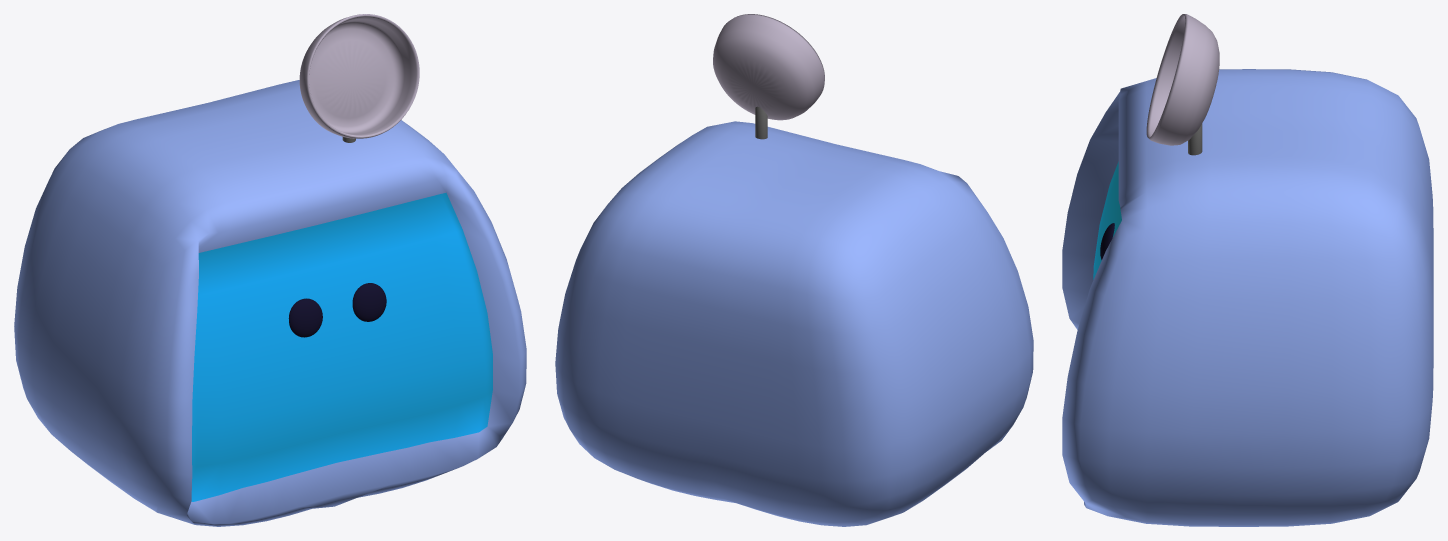
The model's file is HEAD 2 Animasi revisi modelling.fbx.
3 views of the same model, side by side, from view 1: azimuth 30°, elevation 25°; view 2: azimuth 150°, elevation 25°; view 3: azimuth 270°, elevation 25° (orthographic). The views are drawn at different scales.
Visible parts, largest first — view 1: Cube, Cylinder, Sphere.001; view 2: Cube, Cylinder; view 3: Cube, Cylinder.
Boxes of the visible parts, x1,y1,x2,y2 form: Cube: (14, 80, 526, 526); Cylinder: (299, 14, 419, 138); Sphere.001: (288, 283, 386, 337); Cube: (555, 121, 1033, 526); Cylinder: (713, 14, 824, 120); Cube: (1062, 69, 1433, 526); Cylinder: (1146, 14, 1219, 145).
Bounding box in the file's own units: 303 × 337 × 235.
